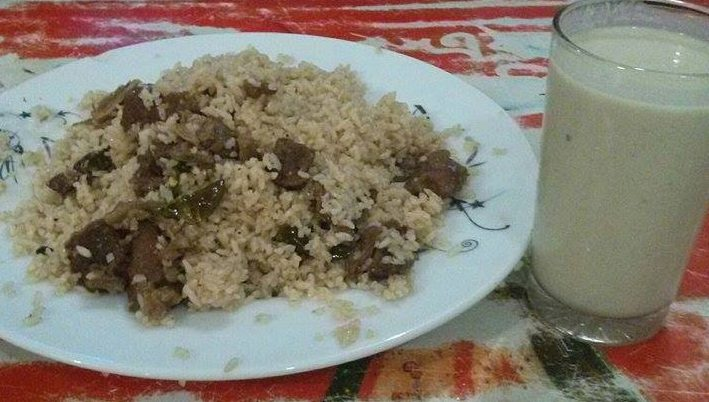tehari: (10, 43, 469, 320)
